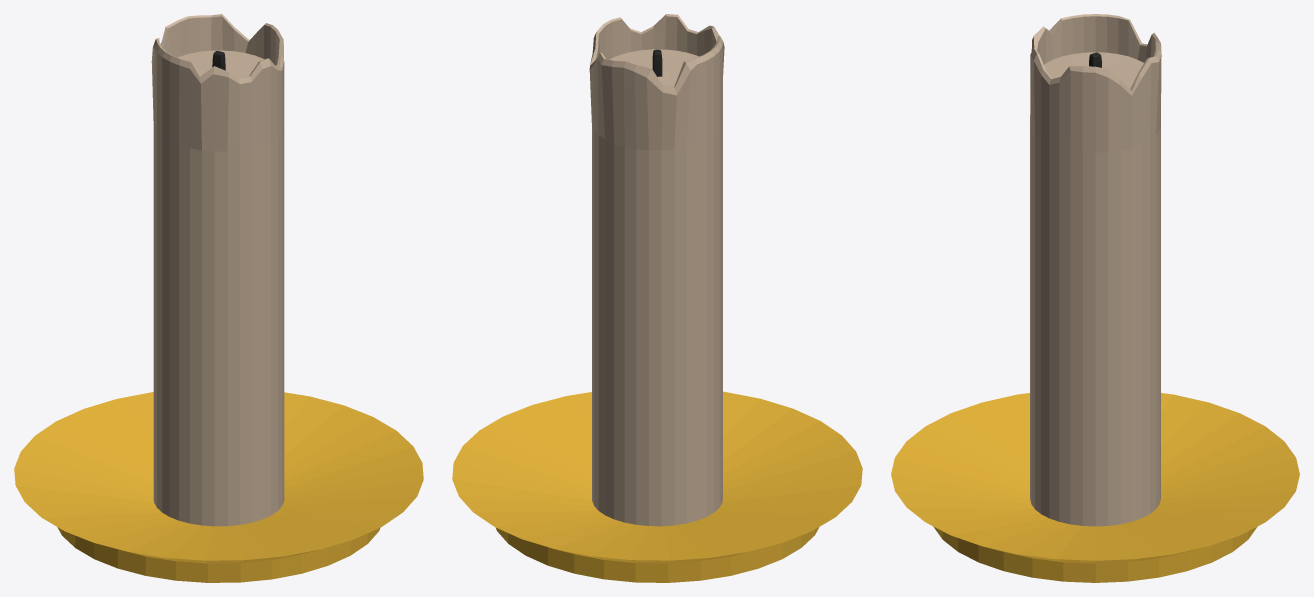
The model's file is Candle.fbx.
3 renders of one model, left to right at view 1: azimuth 30°, elevation 25°; view 2: azimuth 150°, elevation 25°; view 3: azimuth 270°, elevation 25°, orthographic.
Parts seen in each view (by area): view 1: Cube; view 2: Cube; view 3: Cube.
Part boxes in pixels (x1,y1,x2,y2): Cube: [14, 14, 423, 582]; Cube: [452, 14, 862, 582]; Cube: [891, 14, 1299, 582].
Size of the model in its own units: 106 by 135 by 106.
